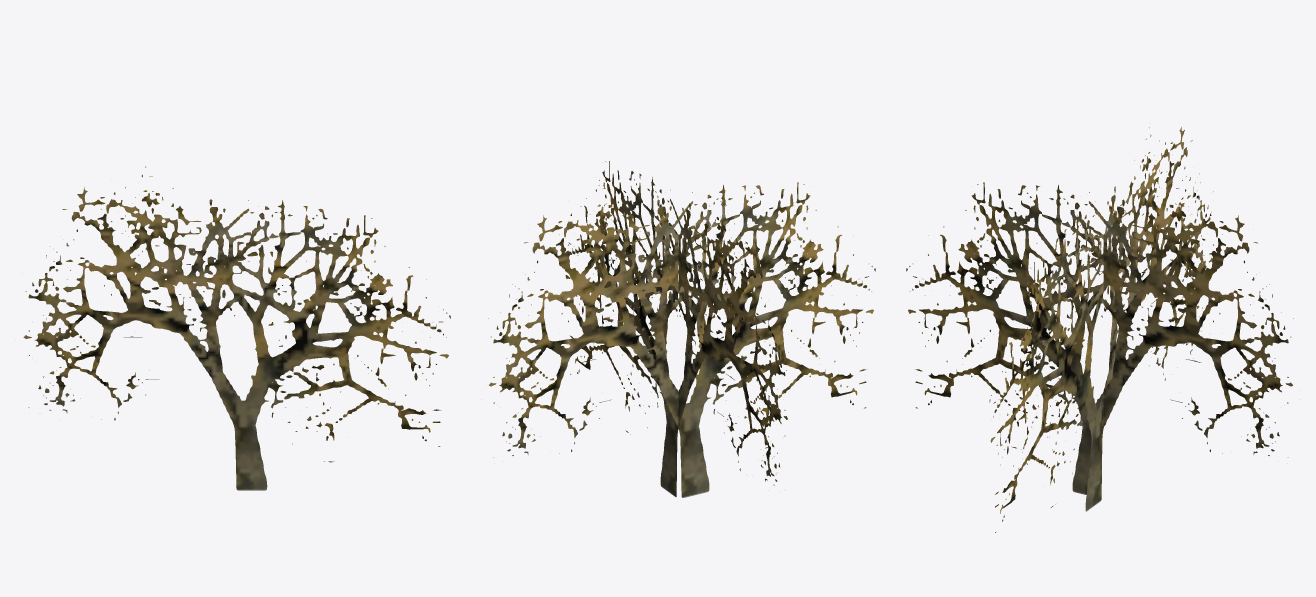
The model's file is Tree_Live01.glb.
3 renders of one model, left to right at view 1: azimuth 30°, elevation 25°; view 2: azimuth 150°, elevation 25°; view 3: azimuth 270°, elevation 25°, orthographic. The views are drawn at different scales.
Parts seen in each view (by area): view 1: TREE_LIVE01; view 2: TREE_LIVE01; view 3: TREE_LIVE01.
Part boxes in pixels (<box>): TREE_LIVE01: <box>23,166,450,490</box>; TREE_LIVE01: <box>488,161,875,497</box>; TREE_LIVE01: <box>906,127,1293,532</box>.
Bounding box in the file's own units: 3.46 × 3.88 × 3.46.
1 material, 1 textured.
